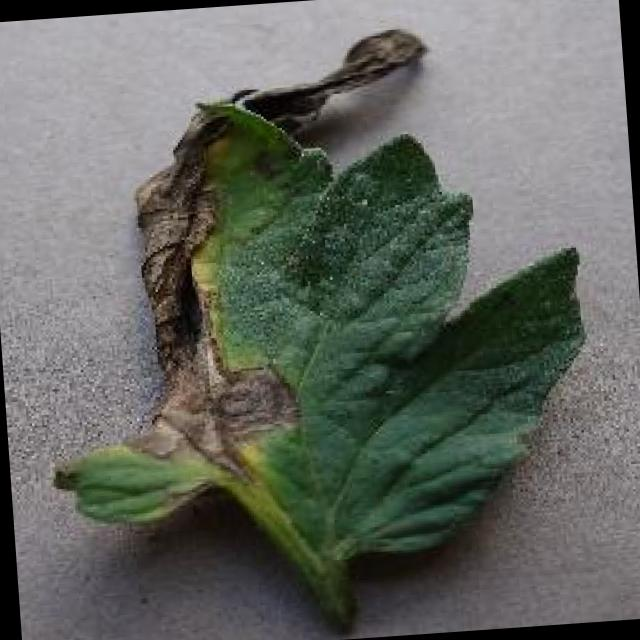Tomato_Early_Blight: (31, 28, 428, 496)
